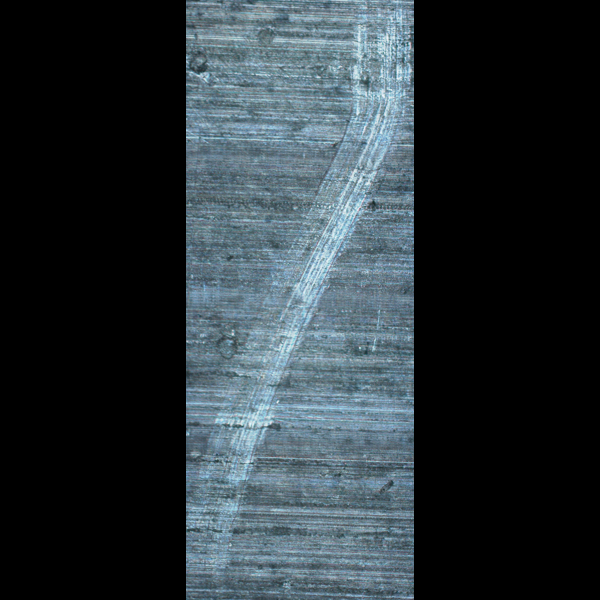d: (347, 0, 413, 176), (197, 416, 262, 570), (240, 282, 302, 437), (298, 157, 360, 284)
